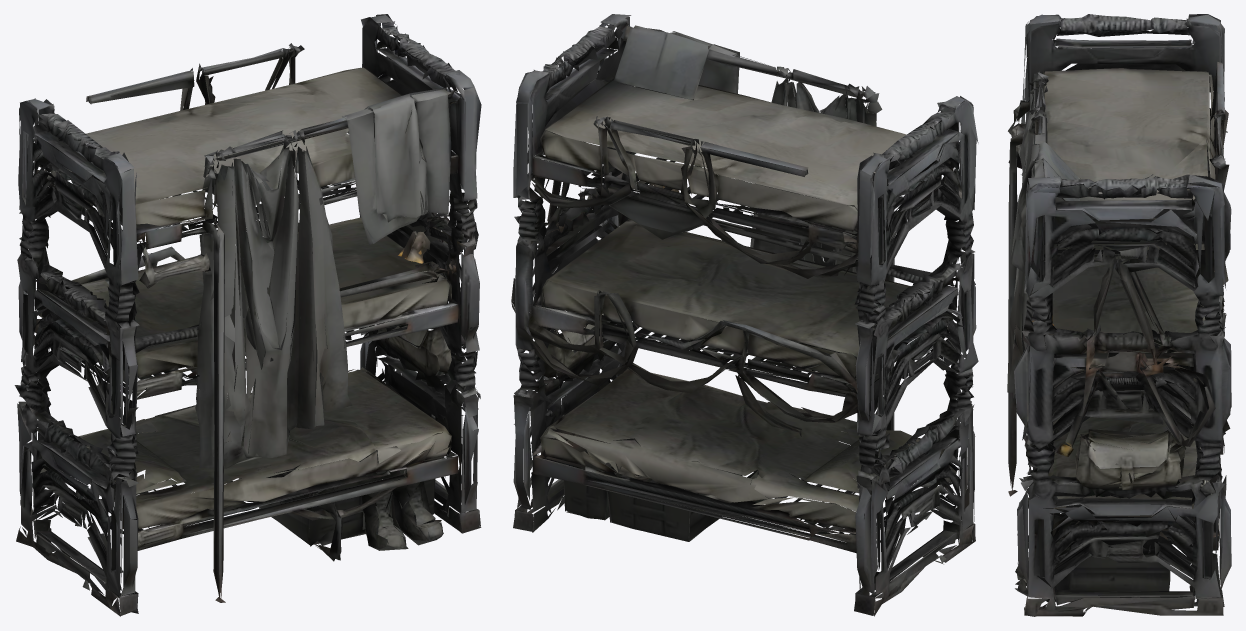
File: life_bunk_stack.glb
3 renders of one model, left to right at view 1: azimuth 30°, elevation 25°; view 2: azimuth 150°, elevation 25°; view 3: azimuth 270°, elevation 25°, orthographic. The views are drawn at different scales.
Visible parts, largest first — view 1: node_0; view 2: node_0; view 3: node_0.
Boxes of the visible parts, x1,y1,x2,y2 form: node_0: [14, 14, 481, 616]; node_0: [511, 14, 978, 616]; node_0: [1007, 14, 1231, 616].
Bounding box in the file's own units: 0.7667 × 0.8776 × 0.4067.
Materials: 1 (1 with a texture image).
